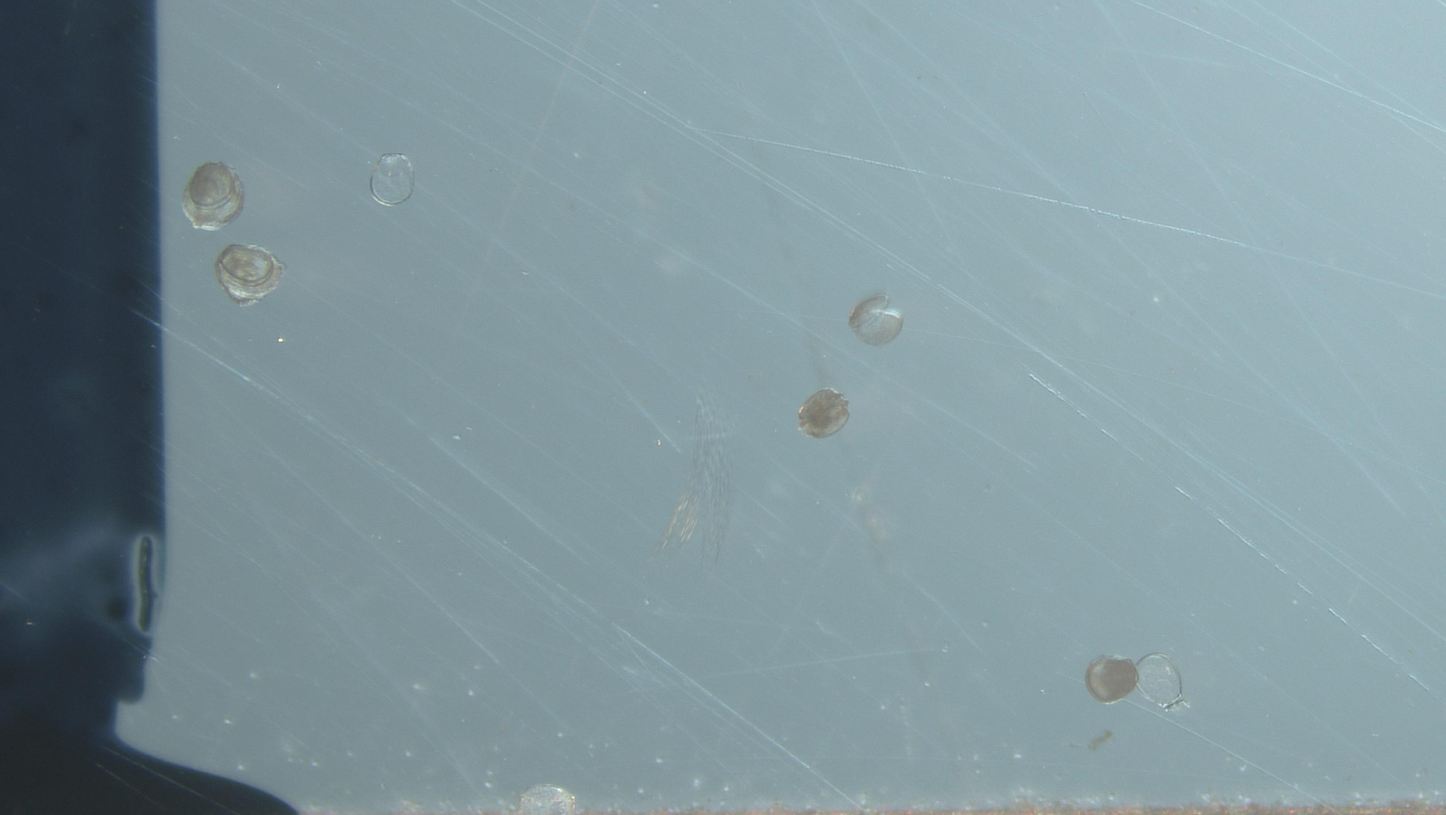dead: (1137, 653, 1184, 711), (370, 154, 414, 207)
live: (182, 162, 244, 231), (215, 244, 284, 305), (849, 294, 904, 346), (798, 389, 849, 439), (1086, 656, 1138, 703)
